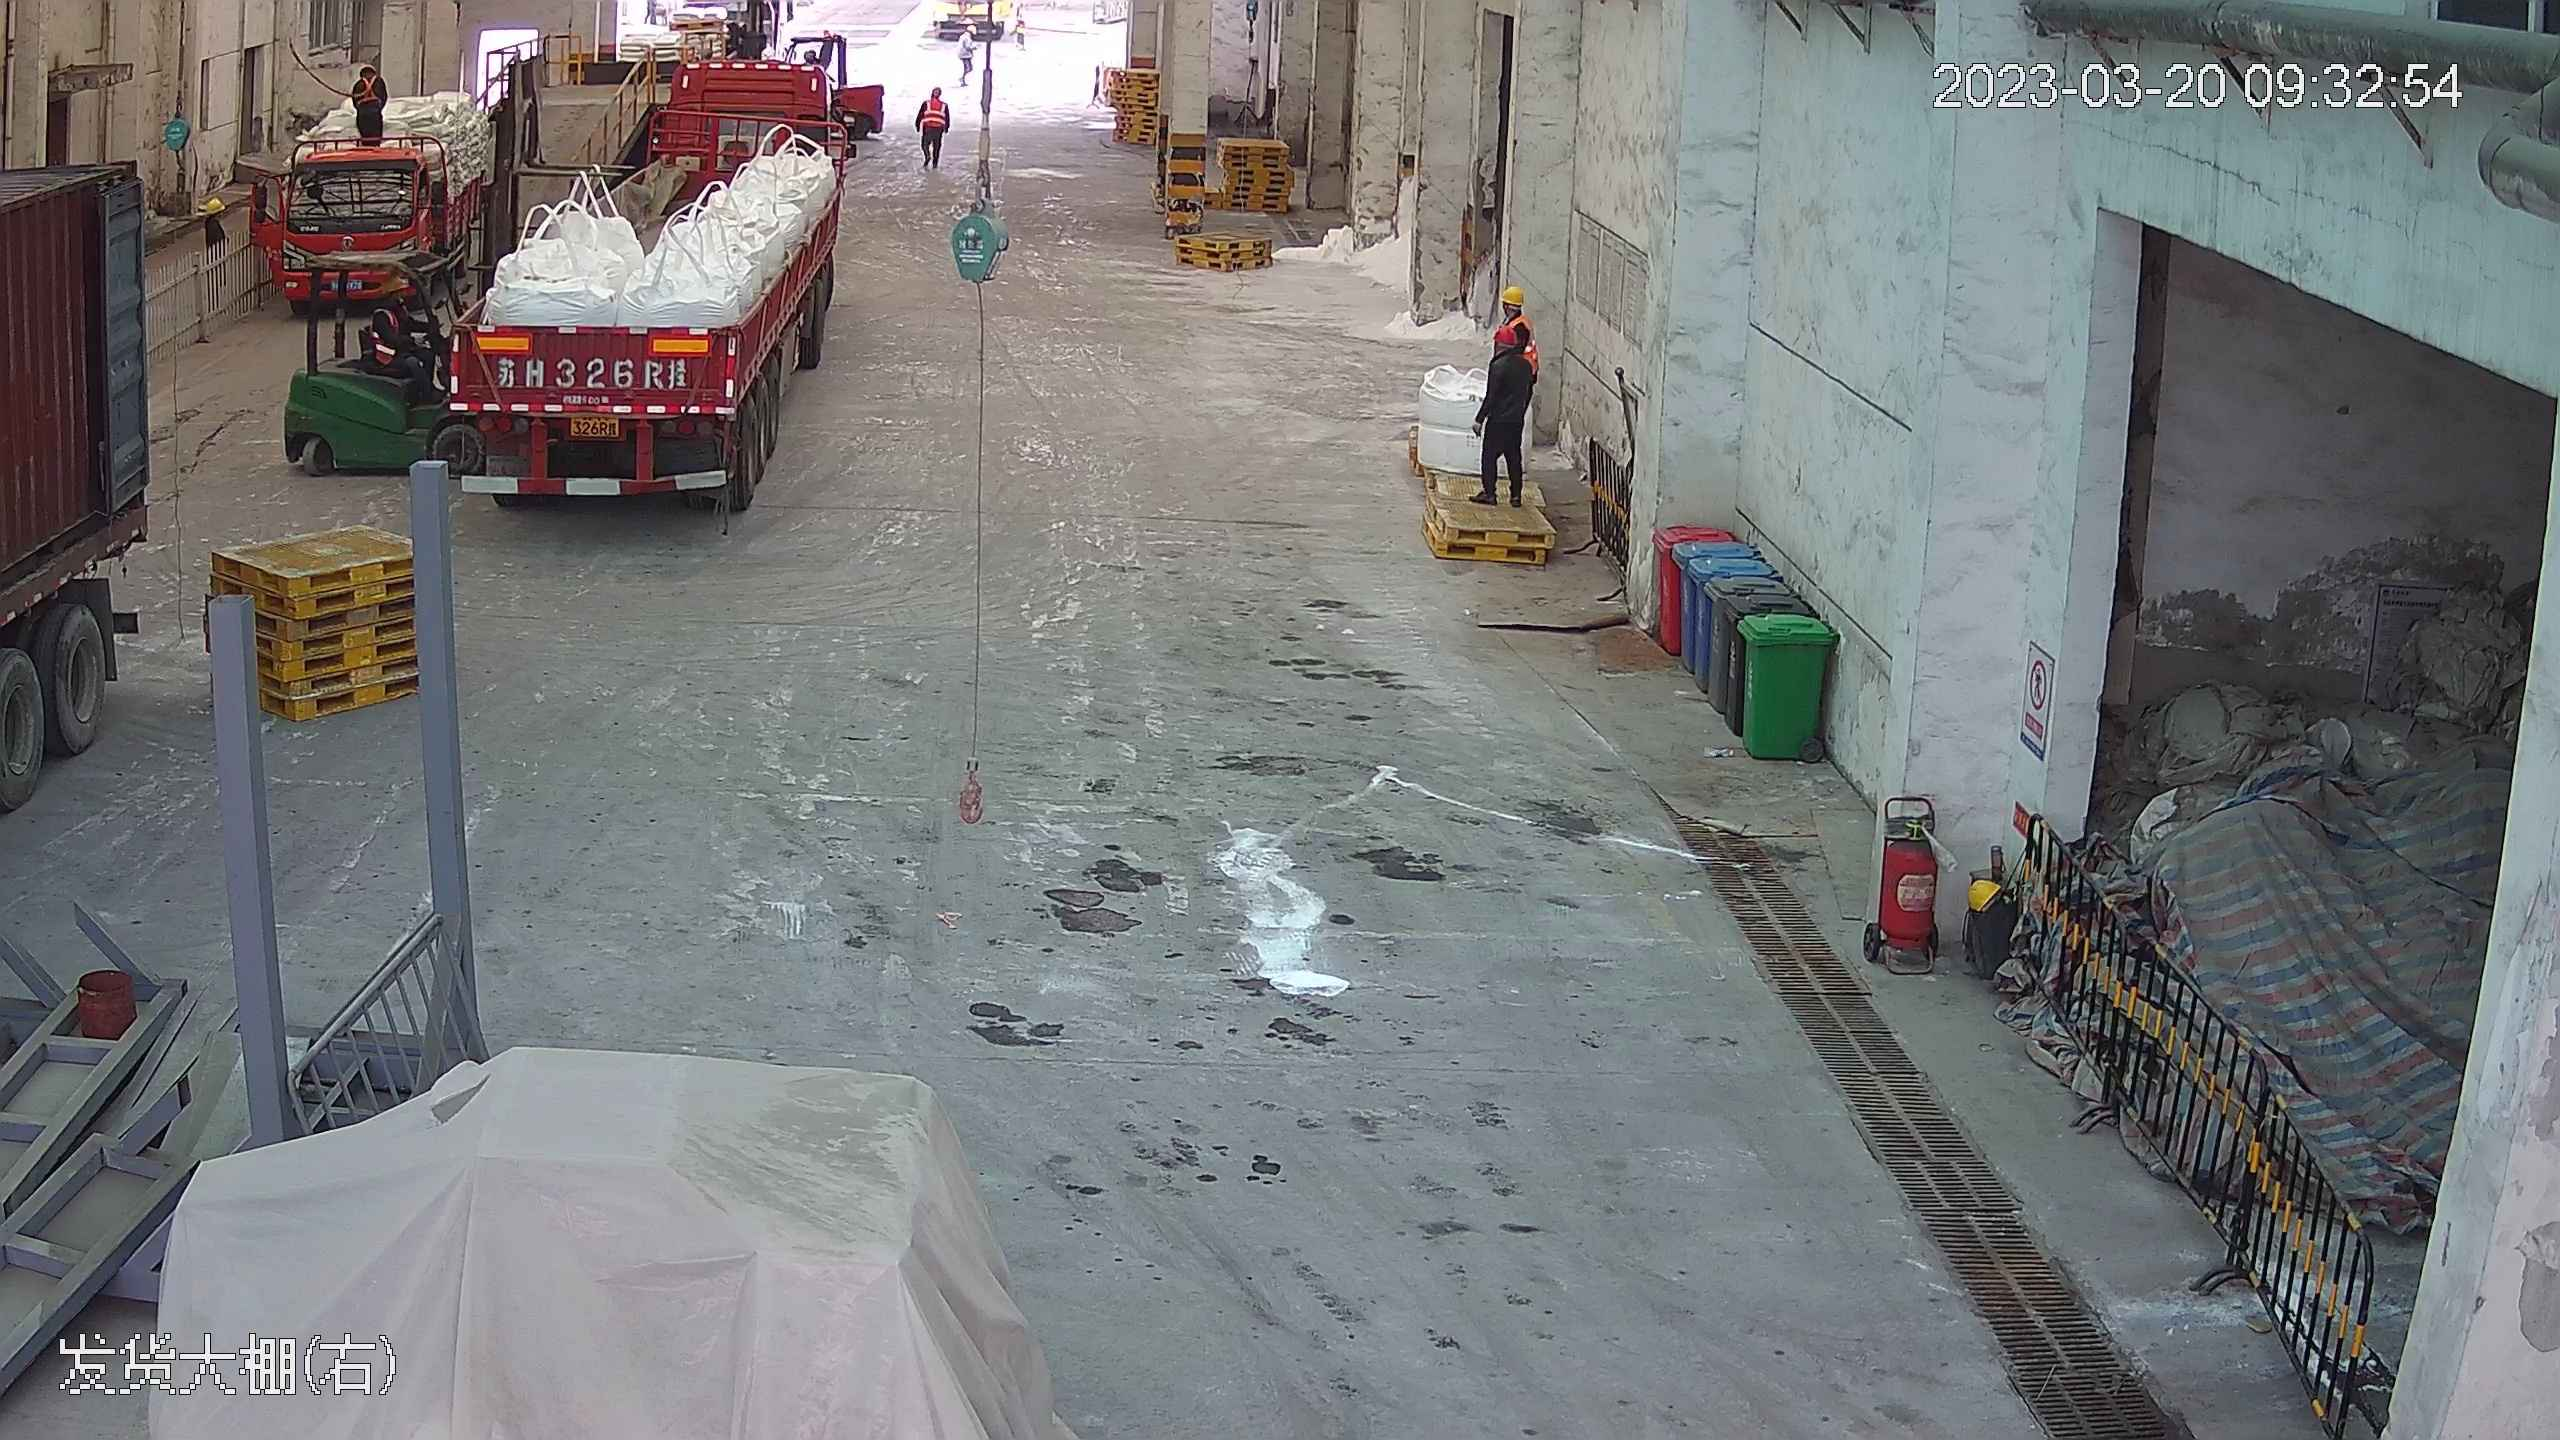belt: (356, 71, 381, 106)
head: (376, 276, 419, 321), (198, 194, 231, 237), (354, 69, 387, 109), (918, 83, 947, 113)
helmet: (1482, 323, 1531, 387), (1500, 282, 1528, 308), (1492, 322, 1519, 347), (381, 274, 407, 293), (203, 192, 224, 212), (356, 60, 375, 74)
people: (1470, 321, 1531, 508), (369, 277, 449, 398), (348, 65, 394, 148), (914, 86, 952, 174), (957, 17, 983, 96), (917, 80, 946, 132)
truck: (451, 37, 853, 522), (1, 27, 179, 938)
